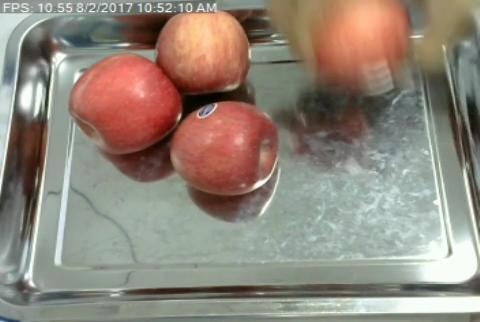apple: (70, 52, 181, 155), (171, 100, 279, 195), (160, 13, 251, 90)
